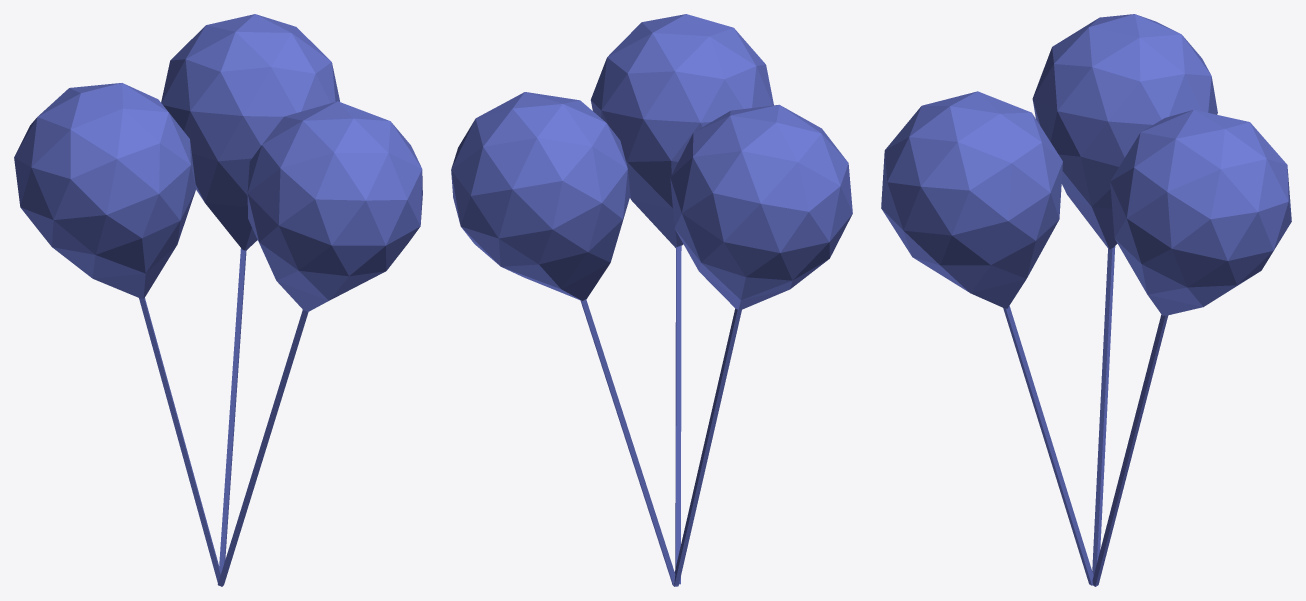
The model's file is balloons.fbx.
The picture shows the model from 3 angles, left to right: view 1: azimuth 30°, elevation 25°; view 2: azimuth 150°, elevation 25°; view 3: azimuth 270°, elevation 25°; orthographic projection.
Parts seen in each view (by area): view 1: Icosphere, Icosphere.002, Icosphere.001; view 2: Icosphere, Icosphere.001, Icosphere.002; view 3: Icosphere.002, Icosphere.001, Icosphere.
Part boxes in pixels (x1,y1,x2,y2): Icosphere: (14, 83, 220, 585); Icosphere.002: (217, 101, 422, 586); Icosphere.001: (161, 14, 339, 572); Icosphere: (670, 104, 852, 586); Icosphere.001: (451, 92, 678, 586); Icosphere.002: (590, 14, 773, 584); Icosphere.002: (881, 91, 1093, 585); Icosphere.001: (1092, 109, 1291, 586); Icosphere: (1032, 14, 1217, 585).
Size of the model in its own units: 419 by 602 by 437.
